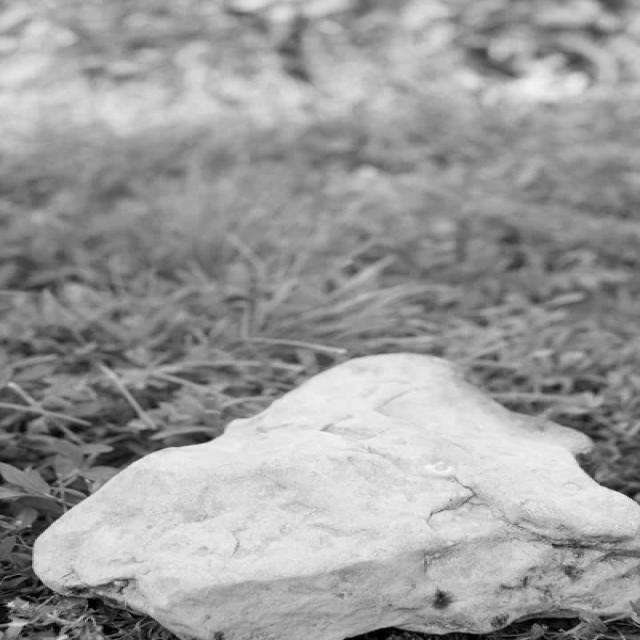Stone: (33, 355, 640, 640)
